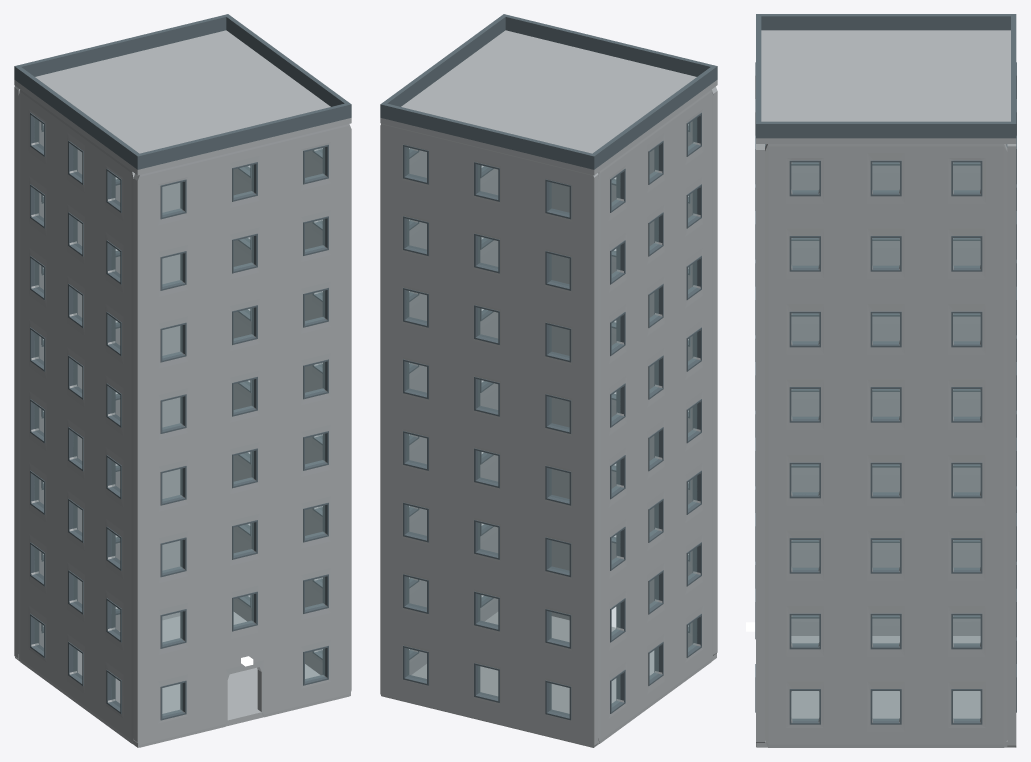
Rendered from block_8_lod0.glb.
3 views of the same model, side by side, from view 1: azimuth 30°, elevation 25°; view 2: azimuth 150°, elevation 25°; view 3: azimuth 270°, elevation 25° (orthographic). The views are drawn at different scales.
Visible parts, largest first — view 1: Wall_0 baked, Wall_3 baked, Ceiling baked, Wall_1 baked, Wall_2 baked, Parapet baked, Parapet.002 baked, Floor baked, Parapet.001 baked, Parapet.003 baked, Glazing.005 baked, Glazing.014 baked (+21 smaller); view 2: Wall_1 baked, Wall_3 baked, Ceiling baked, Wall_0 baked, Wall_2 baked, Parapet.002 baked, Parapet baked, Parapet.001 baked, Parapet.003 baked, Floor baked, Glazing.037 baked, Glazing.031 baked (+22 smaller); view 3: Wall_2 baked, Ceiling baked, Wall_3 baked, Wall_1 baked, Wall_0 baked, Parapet.003 baked, Parapet.001 baked, Floor baked, Glazing.051 baked, Glazing.057 baked, Glazing.063 baked, Glazing.069 baked (+22 smaller).
Boxes of the visible parts, left/top/right/bottom form: Wall_0 baked: left=133, top=124, right=351, bottom=747; Wall_3 baked: left=18, top=89, right=134, bottom=743; Ceiling baked: left=14, top=30, right=351, bottom=175; Wall_1 baked: left=14, top=86, right=180, bottom=659; Wall_2 baked: left=233, top=148, right=322, bottom=674; Parapet baked: left=135, top=102, right=351, bottom=169; Parapet.002 baked: left=14, top=14, right=230, bottom=80; Floor baked: left=15, top=612, right=350, bottom=747; Parapet.001 baked: left=17, top=67, right=138, bottom=167; Parapet.003 baked: left=226, top=16, right=348, bottom=106; Glazing.005 baked: left=162, top=540, right=182, bottom=572; Glazing.014 baked: left=162, top=325, right=182, bottom=357; Wall_1 baked: left=380, top=123, right=598, bottom=747; Wall_3 baked: left=598, top=89, right=713, bottom=743; Ceiling baked: left=380, top=30, right=717, bottom=175; Wall_0 baked: left=551, top=86, right=717, bottom=655; Wall_2 baked: left=409, top=148, right=498, bottom=674; Parapet.002 baked: left=380, top=102, right=596, bottom=169; Parapet baked: left=501, top=14, right=717, bottom=80; Parapet.001 baked: left=593, top=67, right=714, bottom=167; Parapet.003 baked: left=383, top=16, right=505, bottom=106; Floor baked: left=412, top=612, right=716, bottom=747; Glazing.037 baked: left=549, top=397, right=569, bottom=429; Glazing.031 baked: left=549, top=540, right=569, bottom=572; Wall_2 baked: left=765, top=144, right=1007, bottom=747; Ceiling baked: left=756, top=30, right=1016, bottom=143; Wall_3 baked: left=765, top=144, right=1006, bottom=635; Wall_1 baked: left=1007, top=144, right=1016, bottom=747; Wall_0 baked: left=756, top=144, right=764, bottom=746; Parapet.003 baked: left=761, top=121, right=1010, bottom=138; Parapet.001 baked: left=761, top=14, right=1010, bottom=30; Floor baked: left=756, top=636, right=1015, bottom=747; Glazing.051 baked: left=872, top=615, right=899, bottom=645; Glazing.057 baked: left=872, top=464, right=899, bottom=494; Glazing.063 baked: left=872, top=313, right=899, bottom=343; Glazing.069 baked: left=872, top=162, right=899, bottom=192.
Bounding box in the file's own units: 10.05 × 26.45 × 10.4.
